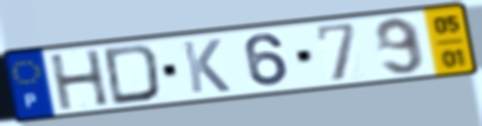6: (243, 32, 292, 89)
7: (313, 20, 360, 84)
9: (373, 16, 426, 77)
D: (101, 42, 164, 107)
H: (46, 47, 113, 113)
K: (179, 37, 234, 95)
